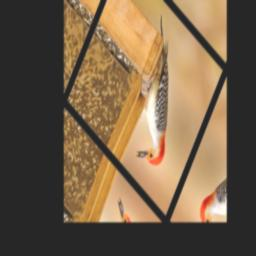Woodpecker: (115, 14, 202, 179)
